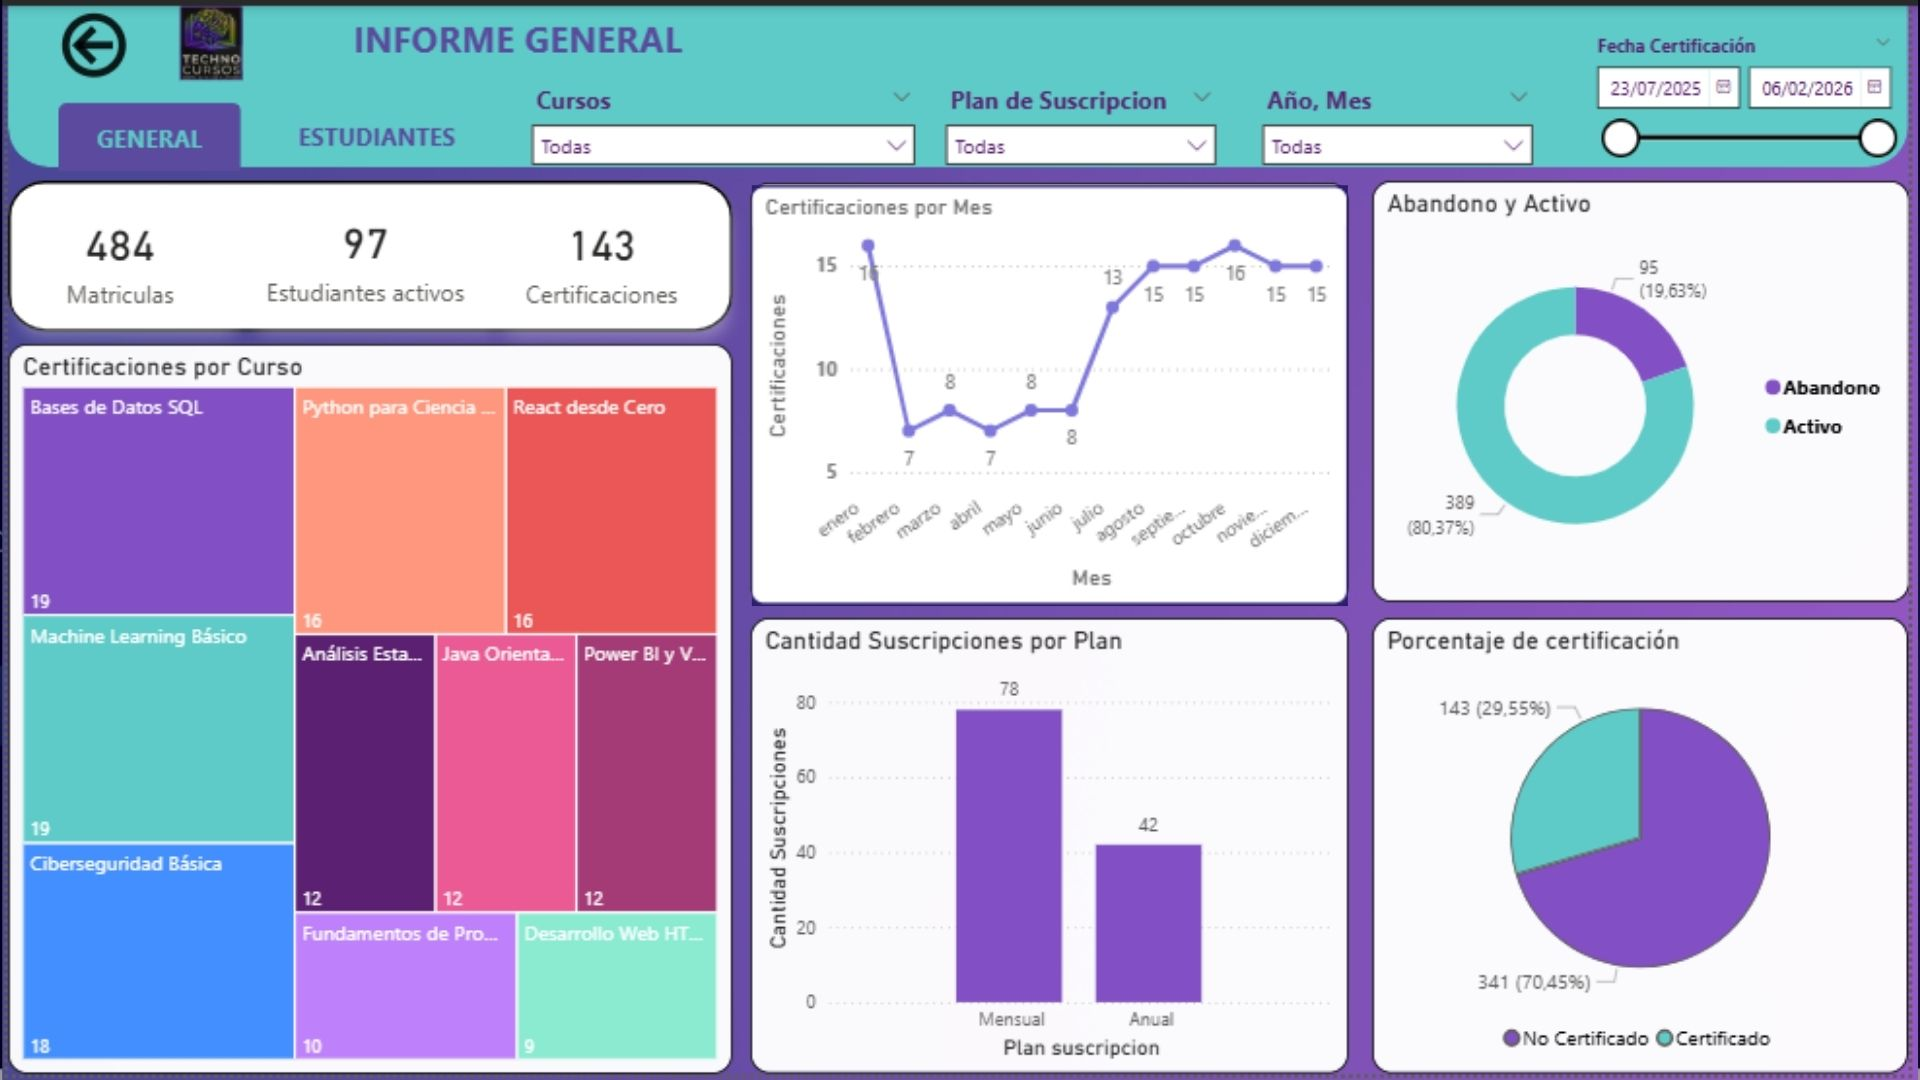

This screenshot's page, from the dashboard's own definition file:
{"tool":"powerbi","page":{"name":"ANALISIS GENERAL","canvas":[1280,720],"ordinal":1},"visuals":[{"type":"shape","box":[0,118.3,488.3,101.7],"z":0},{"type":"textbox","box":[0,0,16.2,13.2],"z":1000},{"type":"donutChart","fields":{"Y":["plataforma_educativa matricula.Abandono","plataforma_educativa matricula.Activo"]},"box":[918.3,118.3,361.7,284.2],"z":2000},{"type":"pieChart","title":"Porcentaje de certificación","fields":{"Y":["plataforma_educativa matricula.No certificado","CountNonNull(plataforma_educativa certificacion.id_matricula)"]},"box":[918.4,412.9,361.5,307.1],"z":3000},{"type":"columnChart","title":"Cantidad Suscripciones por Plan","fields":{"Category":["plataforma_educativa suscripciones.plan_suscripcion"],"Y":["plataforma_educativa suscripciones.Cantidad Suscripciones"]},"box":[499.6,412.9,402.6,307.1],"z":4000},{"type":"lineChart","fields":{"Category":["plataforma_educativa certificacion.fecha_certificacion.Variación.Jerarquía de fechas.Mes"],"Y":["CountNonNull(plataforma_educativa certificacion.id_matricula)"]},"box":[500,118.6,402.9,284.3],"z":5000},{"type":"treemap","title":"Certificaciones por Curso","fields":{"Group":["plataforma_educativa curso.nombre_curso"],"Values":["CountNonNull(plataforma_educativa certificacion.id_certificacion)"]},"box":[0,227.8,487.8,492.2],"z":6000},{"type":"card","fields":{"Values":["CountNonNull(plataforma_educativa certificacion.id_matricula)"]},"box":[325,126.7,150.8,85.8],"z":7000},{"type":"card","fields":{"Values":["plataforma_educativa suscripciones.Medida"]},"box":[157.5,126.7,167.5,84.2],"z":8000},{"type":"card","fields":{"Values":["CountNonNull(plataforma_educativa matricula.id_matricula)"]},"box":[2.5,126.7,145.8,85],"z":9000},{"type":"shape","box":[0,0,1280,108.6],"z":10000},{"type":"slicer","fields":{"Values":["plataforma_educativa suscripciones.plan_suscripcion"]},"box":[621.7,46.7,201.7,61.7],"z":11000},{"type":"slicer","fields":{"Values":["plataforma_educativa curso.nombre_curso"]},"box":[343.3,46.7,278.3,60],"z":12000},{"type":"slicer","fields":{"Values":["plataforma_educativa certificacion.fecha_certificacion"]},"box":[1057.1,12.9,222.9,95.7],"z":13000},{"type":"slicer","fields":{"Values":["plataforma_educativa certificacion.fecha_certificacion.Variación.Jerarquía de fechas.Año","plataforma_educativa certificacion.fecha_certificacion.Variación.Jerarquía de fechas.Mes"]},"box":[835.8,46.7,201.7,61.7],"z":14000},{"type":"textbox","box":[157.1,0,372.9,42.9],"z":15000},{"type":"actionButton","box":[30.8,0,54.6,53.1],"z":16000},{"type":"actionButton","box":[173.3,65,151.7,43.3],"z":17000},{"type":"image","box":[75.7,0,121.4,50],"z":18000},{"type":"actionButton","box":[34.3,65.7,122.9,45.7],"z":19000}]}

Visuals, with their boxes in screenshot pixels (x1, y1, x2, y2), scaled from the page's 1280x720 canvas onto the 1920x1080 screenshot:
shape: 0/177/732/330
textbox: 0/0/24/20
donutChart - plataforma_educativa matricula.Abandono x plataforma_educativa matricula.Activo: 1377/177/1919/604
"Porcentaje de certificación" pieChart: 1378/619/1919/1079
"Cantidad Suscripciones por Plan" columnChart: 749/619/1353/1079
lineChart - plataforma_educativa certificacion.fecha_certificacion.Variación.Jerarquía de fechas.Mes x CountNonNull(plataforma_educativa certificacion.id_matricula): 750/178/1354/604
"Certificaciones por Curso" treemap: 0/342/732/1079
card - CountNonNull(plataforma_educativa certificacion.id_matricula): 488/190/714/319
card - plataforma_educativa suscripciones.Medida: 236/190/488/316
card - CountNonNull(plataforma_educativa matricula.id_matricula): 4/190/222/318
shape: 0/0/1919/163
slicer - plataforma_educativa suscripciones.plan_suscripcion: 933/70/1235/163
slicer - plataforma_educativa curso.nombre_curso: 515/70/932/160
slicer - plataforma_educativa certificacion.fecha_certificacion: 1586/19/1919/163
slicer - plataforma_educativa certificacion.fecha_certificacion.Variación.Jerarquía de fechas.Año x plataforma_educativa certificacion.fecha_certificacion.Variación.Jerarquía de fechas.Mes: 1254/70/1556/163
textbox: 236/0/795/64
actionButton: 46/0/128/80
actionButton: 260/98/488/162
image: 114/0/296/75
actionButton: 51/99/236/167
